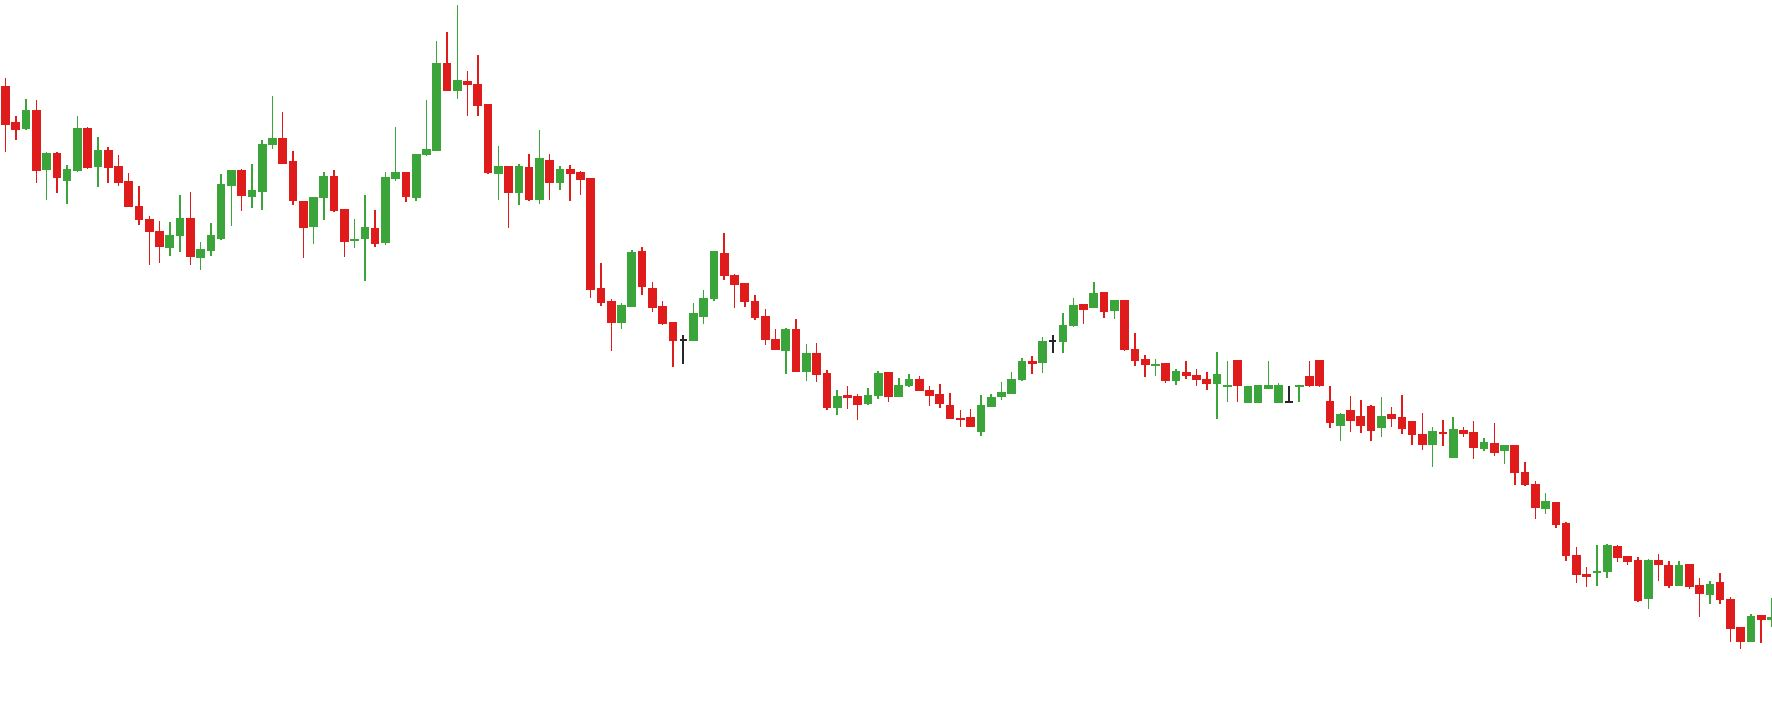buy: (606, 280, 688, 369)
